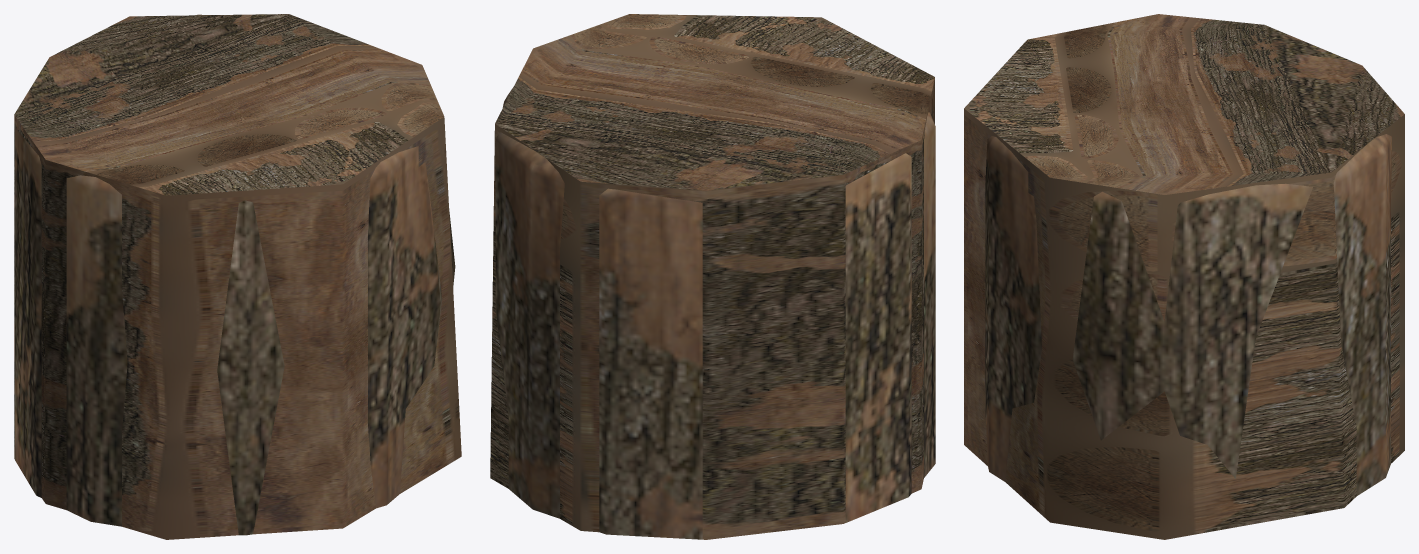
Rendered from CAMP_sitting_log.fbx.
3 views of the same model, side by side, from view 1: azimuth 30°, elevation 25°; view 2: azimuth 150°, elevation 25°; view 3: azimuth 270°, elevation 25° (orthographic). The views are drawn at different scales.
Visible parts, largest first — view 1: CAMP_sitting_log_COL, CAMP_sitting_log; view 2: CAMP_sitting_log_COL, CAMP_sitting_log; view 3: CAMP_sitting_log_COL, CAMP_sitting_log.
Boxes of the visible parts, x1,y1,x2,y2 form: CAMP_sitting_log_COL: (14, 14, 461, 539); CAMP_sitting_log: (15, 14, 455, 535); CAMP_sitting_log_COL: (490, 14, 934, 539); CAMP_sitting_log: (495, 87, 935, 539); CAMP_sitting_log_COL: (964, 14, 1404, 539); CAMP_sitting_log: (985, 134, 1391, 495).
Size of the model in its own units: 41.99 by 34.78 by 41.3.
